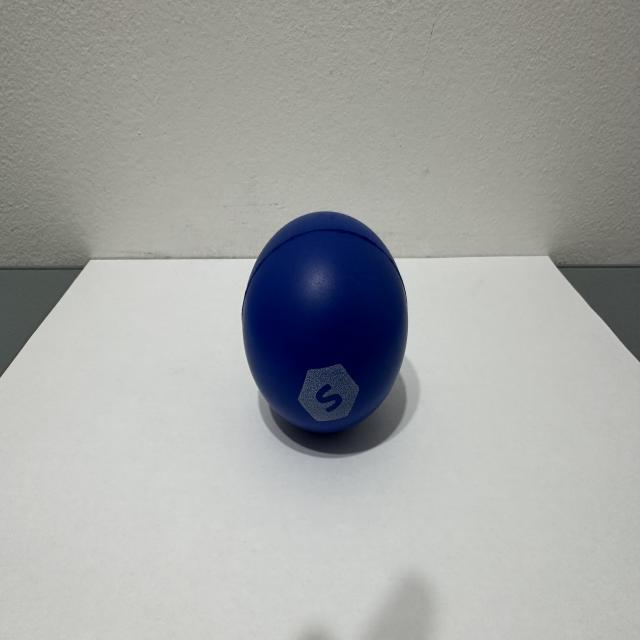blue_ball: (238, 199, 438, 472)
